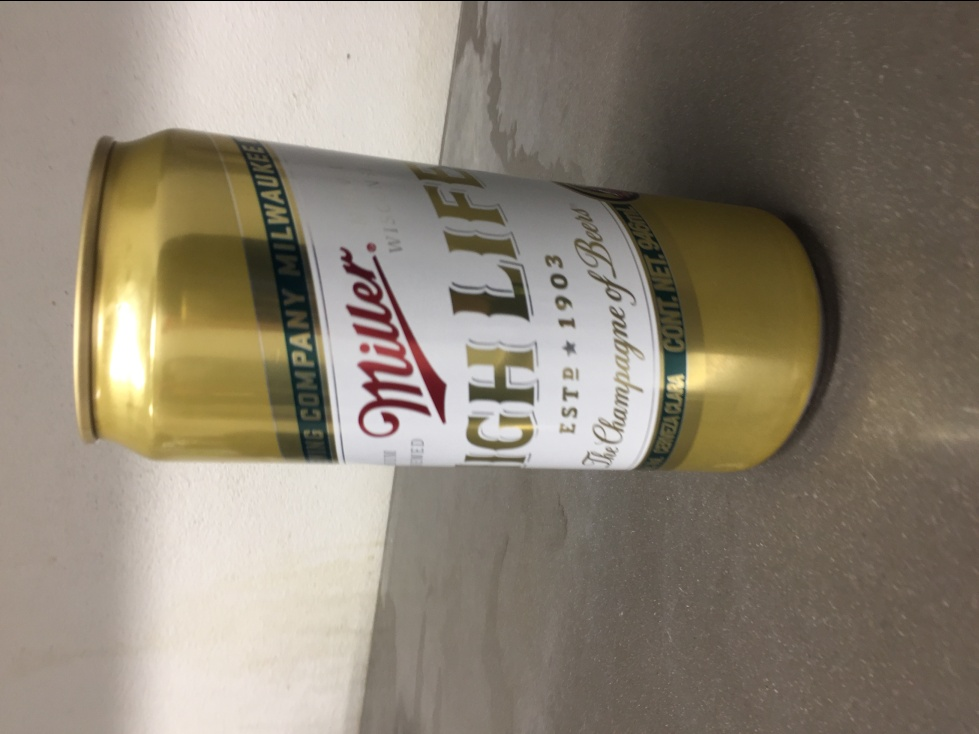miller: (73, 121, 831, 479)
